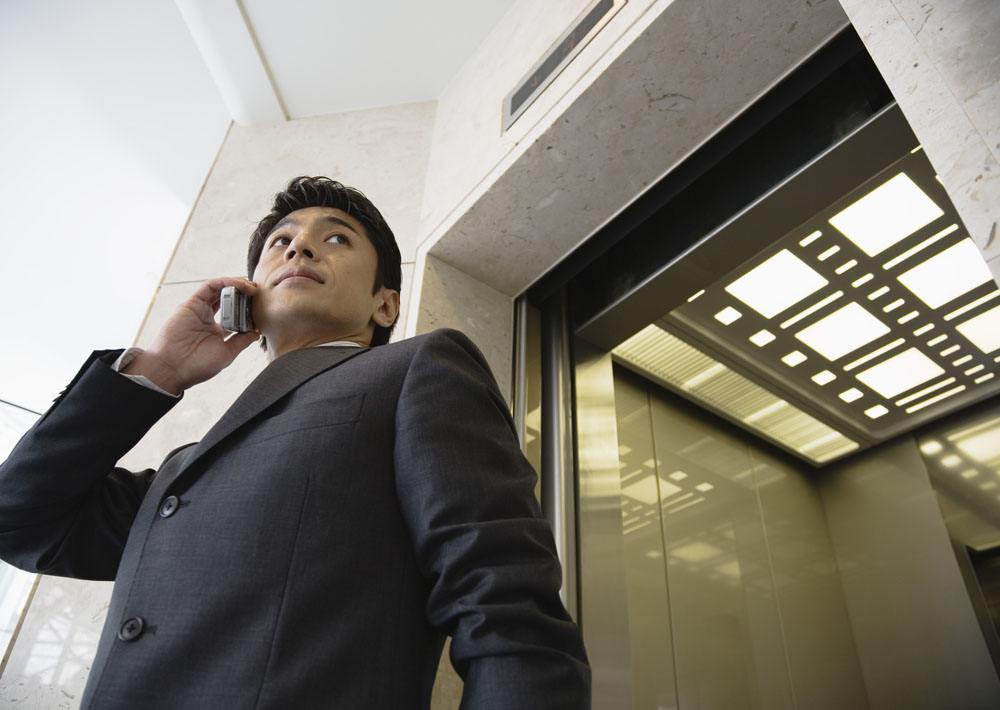calling: (153, 271, 260, 386)
